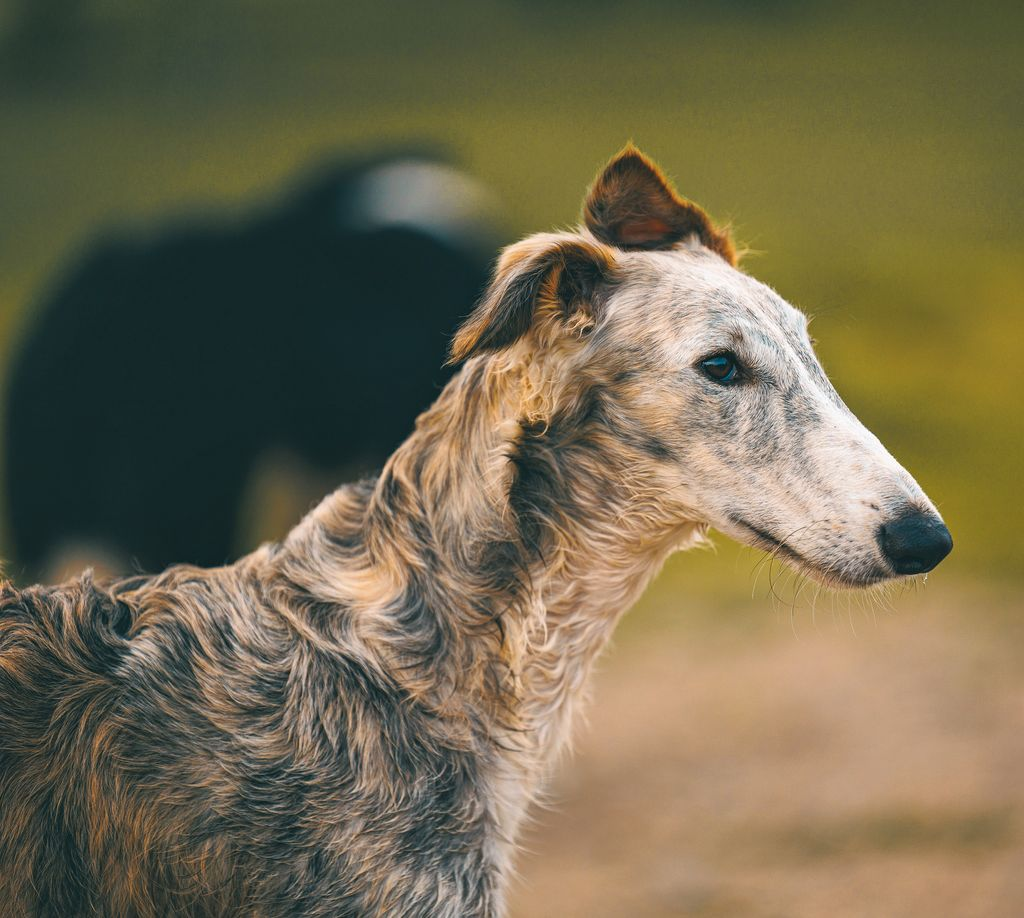borzoi: (0, 144, 989, 910)
